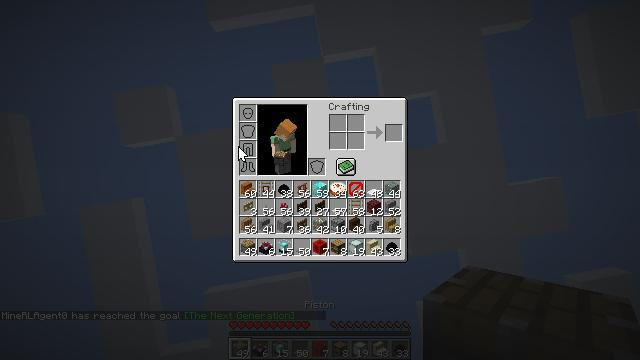cursor: (238, 146, 248, 162)
